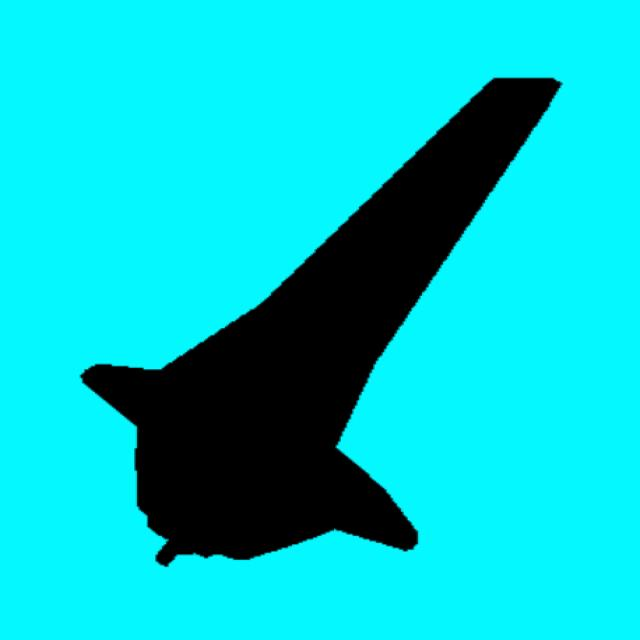BlackBuoy: (83, 79, 558, 564)
